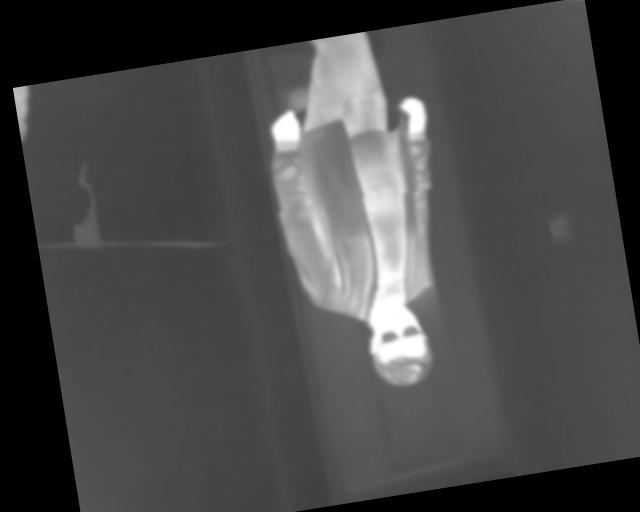face: (362, 298, 437, 392)
